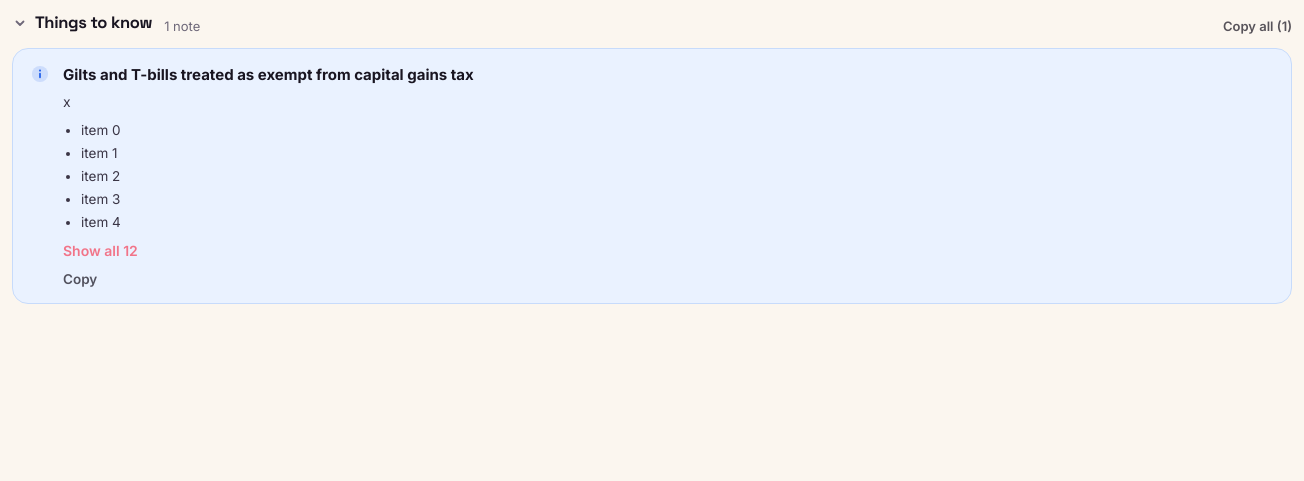
Test case: long occurrence lists collapse to a preview until expanded
The width and height of the screenshot is (1304, 481).
Expected: the number of list items is 5, [81,122,121,138]; [81,145,118,161]; [81,168,120,184]; [81,191,120,207]; [81,214,121,230]
Expected: the text "item 11" is not shown
Click the button "Show all 12" at [100, 251], box [63,241,138,260]
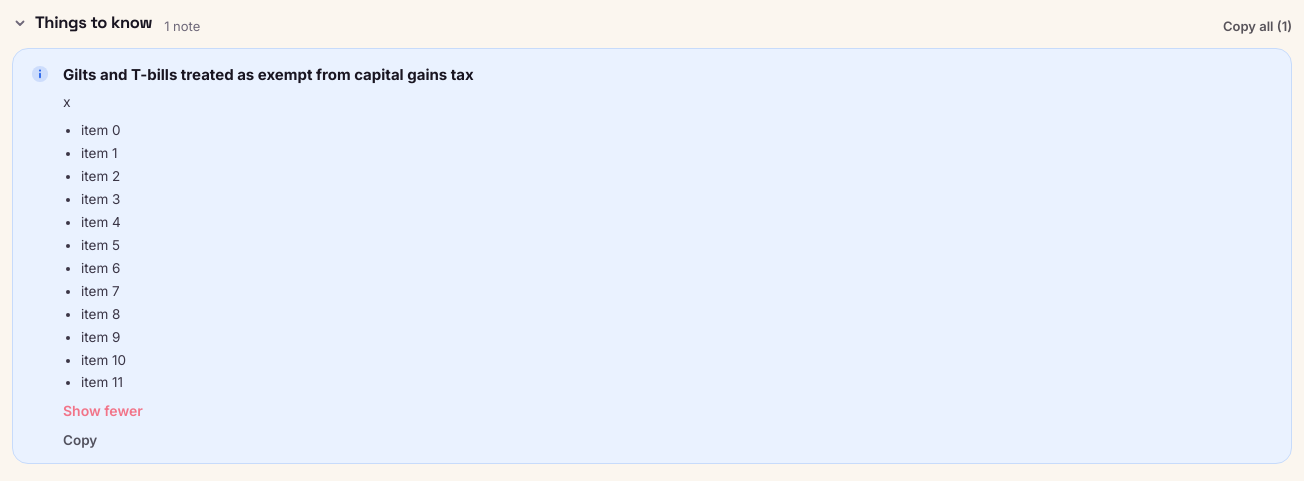
Expected: the number of list items is 12
Expected: the text "item 11" is shown, [81,374,123,390]
Click the button "Show fewer" at [103, 411], box [63,401,143,421]
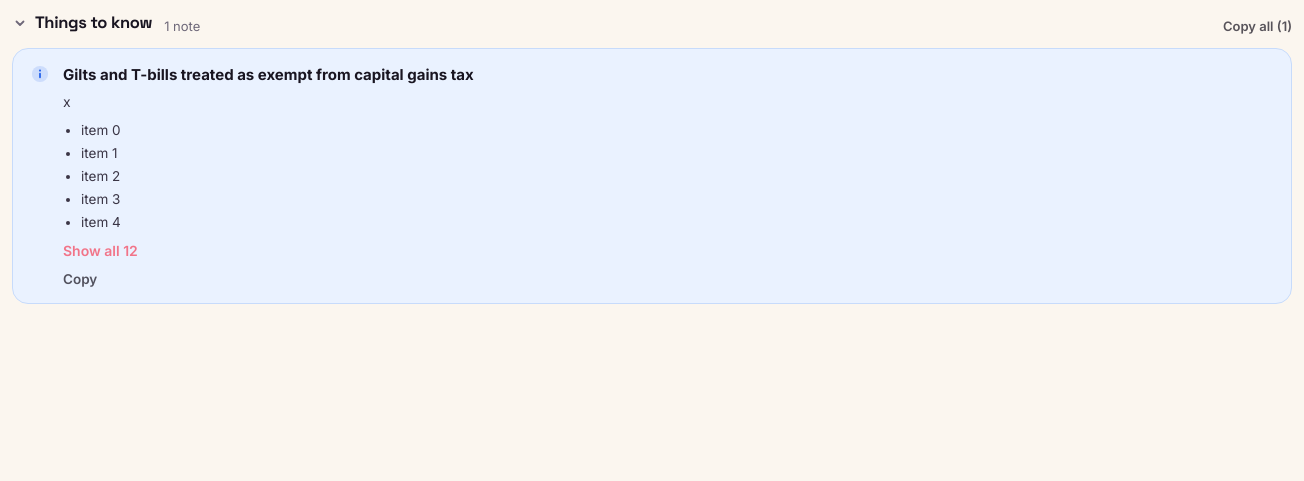
Expected: the number of list items is 5, [81,122,121,138]; [81,145,118,161]; [81,168,120,184]; [81,191,120,207]; [81,214,121,230]
